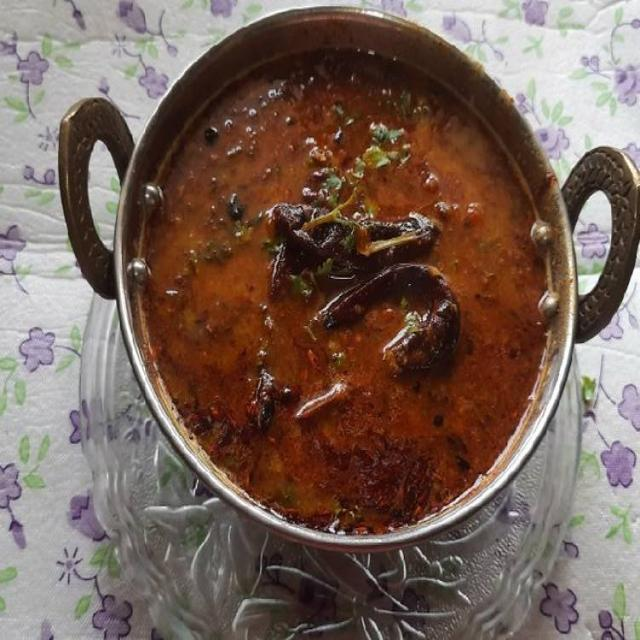sambar: (182, 98, 518, 480)
